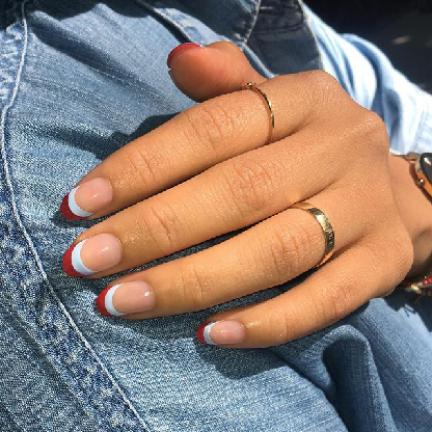Nail: (63, 232, 122, 276), (60, 178, 112, 220), (95, 281, 155, 317), (198, 320, 245, 344)
